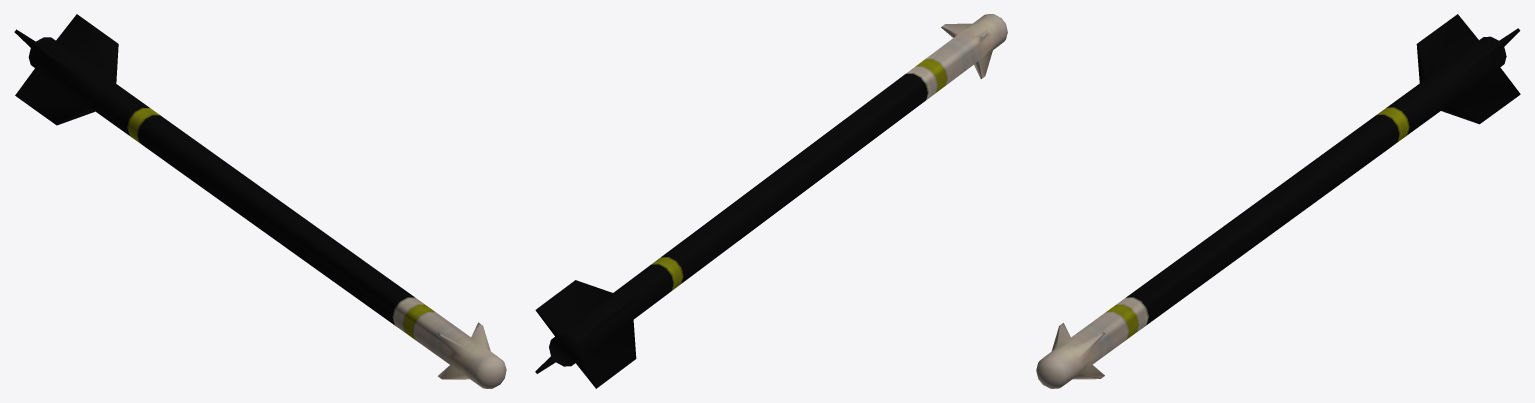
The model's file is missile.obj.
The picture shows the model from 3 angles, left to right: view 1: azimuth 30°, elevation 25°; view 2: azimuth 150°, elevation 25°; view 3: azimuth 330°, elevation 25°; orthographic projection. The views are drawn at different scales.
Parts seen in each view (by area): view 1: missile1; view 2: missile1; view 3: missile1.
Part boxes in pixels (<box>): missile1: <box>14,14,506,388</box>; missile1: <box>535,14,1007,388</box>; missile1: <box>1036,14,1520,388</box>.
Size of the model in its own units: 0.2907 by 0.2912 by 3.45.
1 material, 1 textured.
